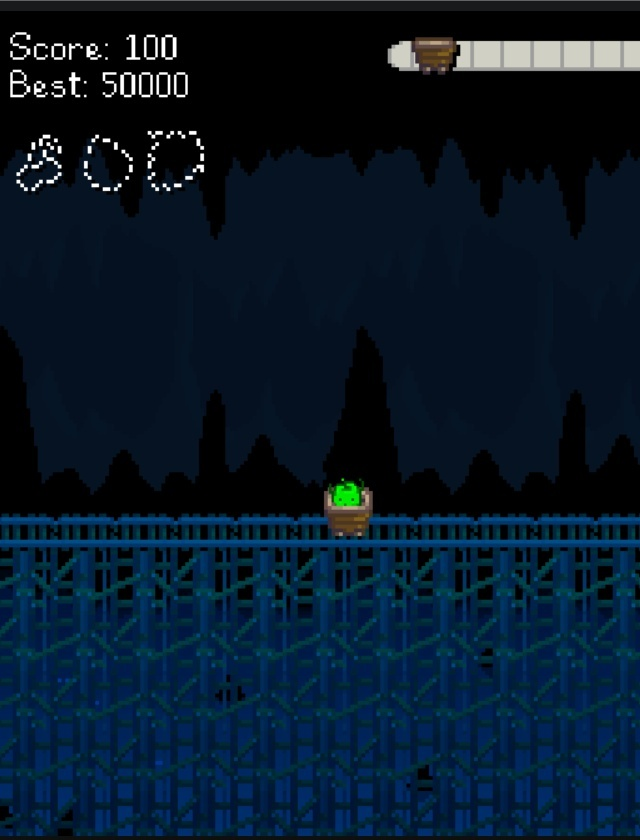minecart: (324, 479, 371, 535)
score: (121, 28, 180, 66)
tracks: (1, 510, 315, 550)
